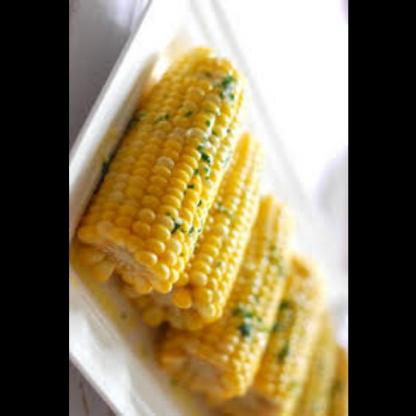corn: (75, 44, 255, 298), (166, 198, 310, 408), (152, 132, 283, 345), (247, 268, 336, 416)
